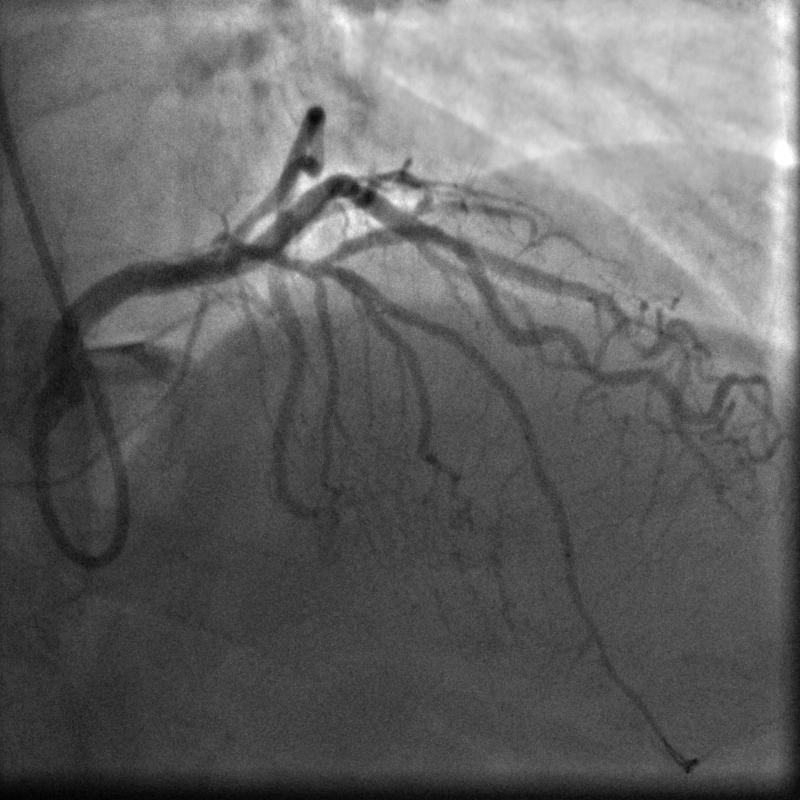Stenosis: (429, 220, 464, 261)
